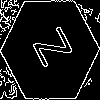Z: (25, 25, 73, 75)
